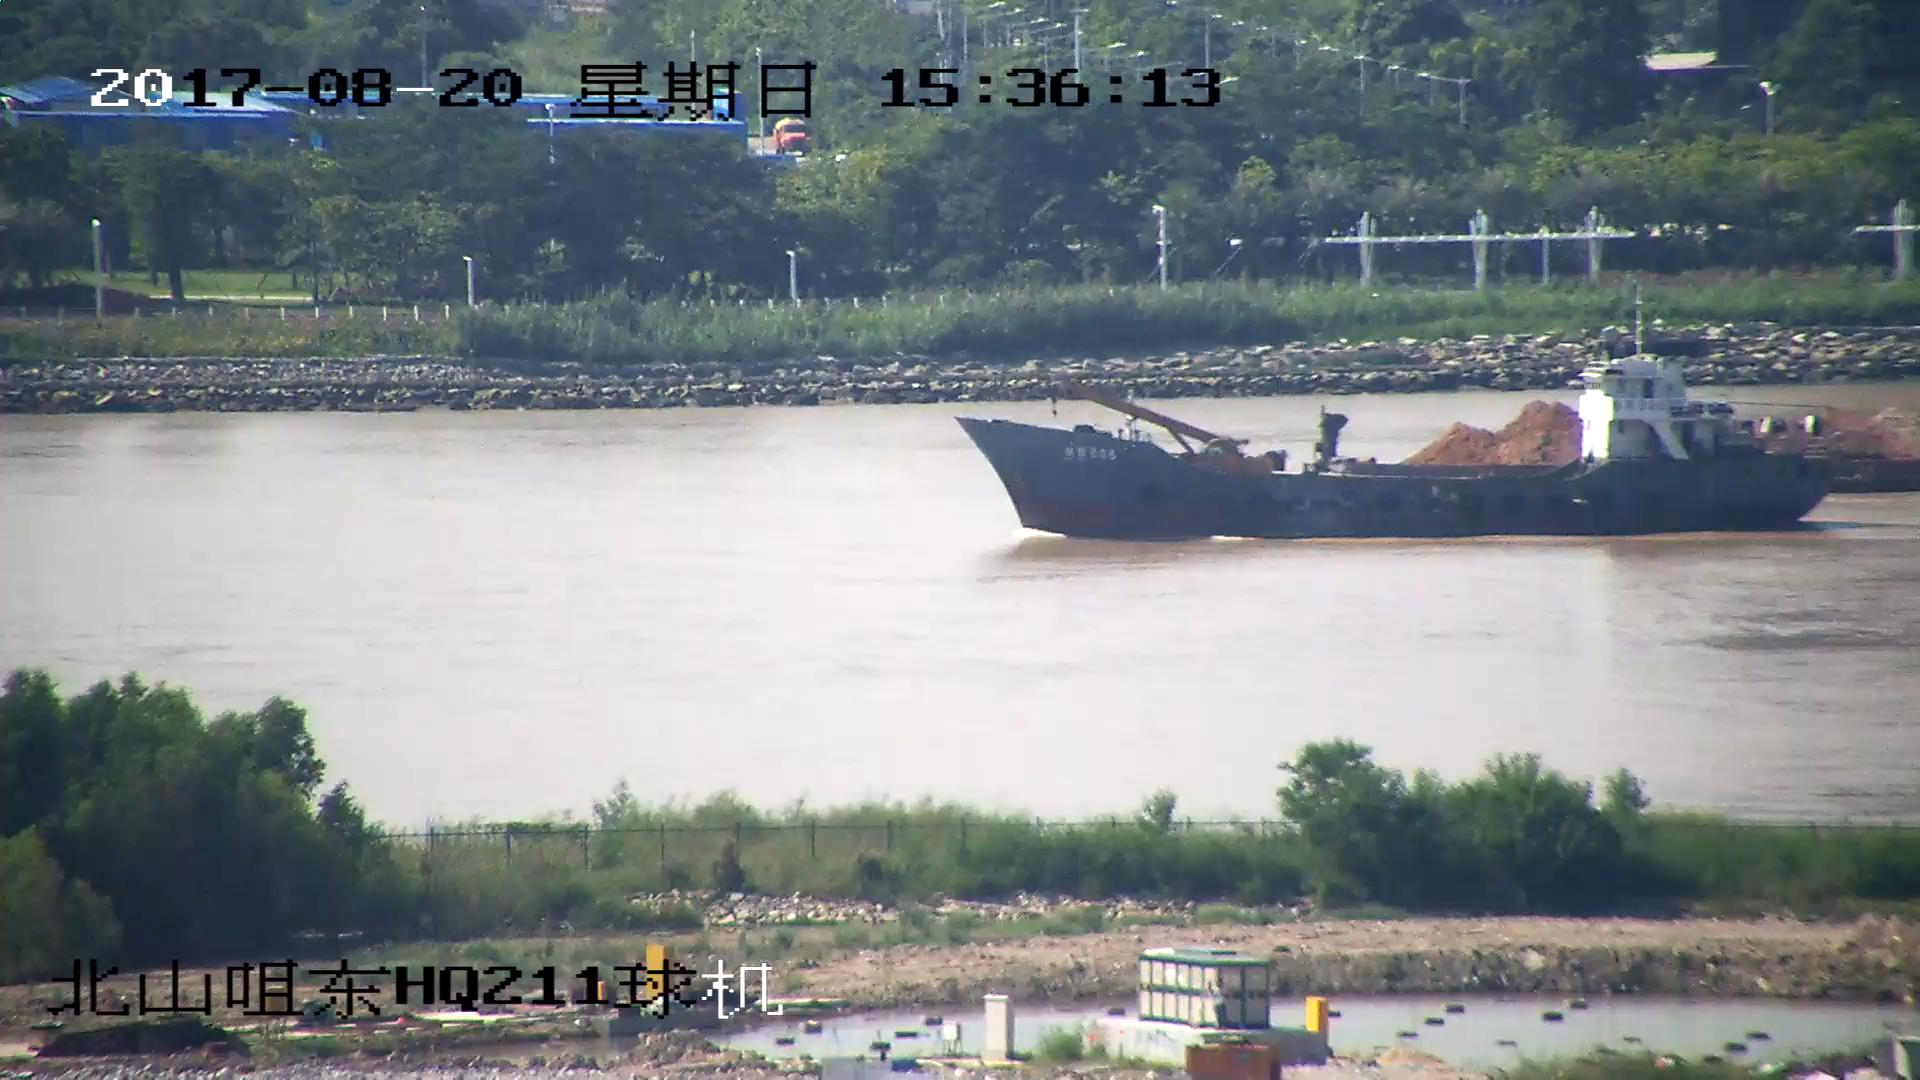general cargo ship: (957, 288, 1840, 537)
ore carrier: (1284, 384, 1920, 497)
